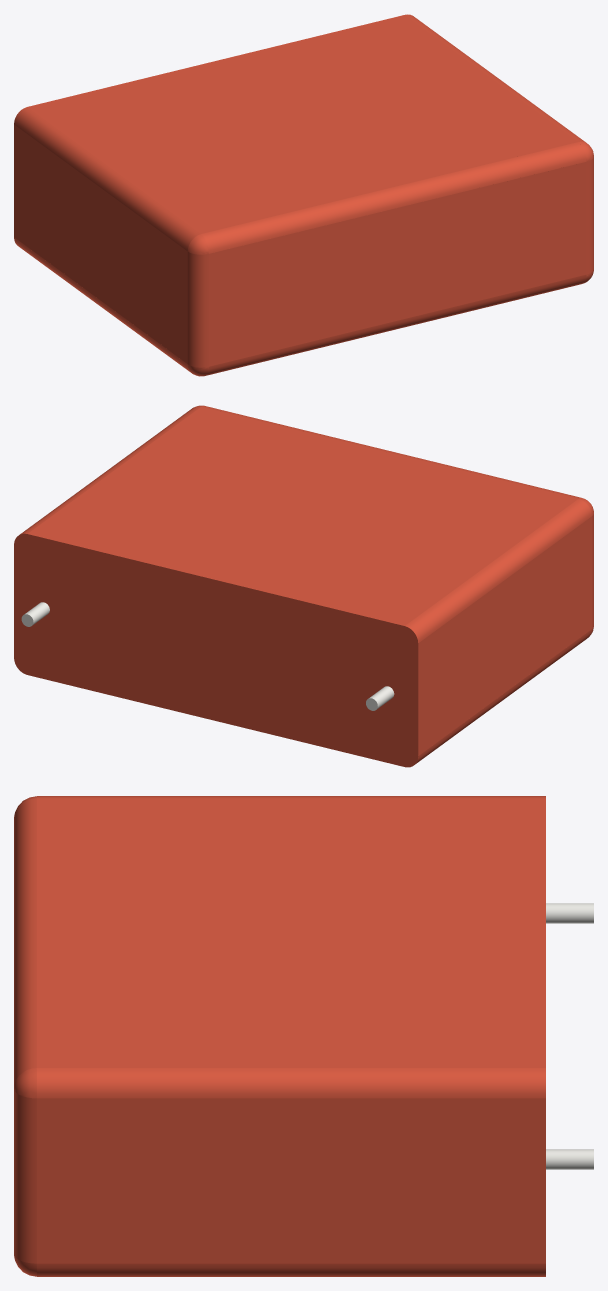
File: C_Rect_L27.0mm_W9.0mm_P23.00mm.glb
The picture shows the model from 3 angles, top to bottom: view 1: azimuth 30°, elevation 25°; view 2: azimuth 150°, elevation 25°; view 3: azimuth 270°, elevation 25°; orthographic projection. The views are drawn at different scales.
Parts seen in each view (by area): view 1: Shape_IndexedFaceSet.009, Shape_IndexedFaceSet.007, Shape_IndexedFaceSet, Shape_IndexedFaceSet.016, Shape_IndexedFaceSet.004, Shape_IndexedFaceSet.015, Shape_IndexedFaceSet.002, Shape_IndexedFaceSet.001, Shape_IndexedFaceSet.011, Shape_IndexedFaceSet.017; view 2: Shape_IndexedFaceSet.009, Shape_IndexedFaceSet.003, Shape_IndexedFaceSet, Shape_IndexedFaceSet.004, Shape_IndexedFaceSet.001, Shape_IndexedFaceSet.011, Shape_IndexedFaceSet.016; view 3: Shape_IndexedFaceSet.009, Shape_IndexedFaceSet.012, Shape_IndexedFaceSet.011, Shape_IndexedFaceSet.010, Shape_IndexedFaceSet.016, Shape_IndexedFaceSet.017, Shape_IndexedFaceSet.004, Shape_IndexedFaceSet.013, Shape_IndexedFaceSet.014.
Boxes of the visible parts, x1=… form: Shape_IndexedFaceSet.009: x1=28, y1=15, x2=577, y2=233; Shape_IndexedFaceSet.007: x1=209, y1=162, x2=586, y2=366; Shape_IndexedFaceSet: x1=14, y1=124, x2=187, y2=363; Shape_IndexedFaceSet.016: x1=201, y1=142, x2=586, y2=253; Shape_IndexedFaceSet.004: x1=14, y1=107, x2=200, y2=250; Shape_IndexedFaceSet.015: x1=205, y1=275, x2=586, y2=375; Shape_IndexedFaceSet.002: x1=187, y1=252, x2=208, y2=367; Shape_IndexedFaceSet.001: x1=14, y1=237, x2=189, y2=371; Shape_IndexedFaceSet.011: x1=405, y1=14, x2=585, y2=142; Shape_IndexedFaceSet.017: x1=586, y1=157, x2=593, y2=274; Shape_IndexedFaceSet.009: x1=28, y1=407, x2=577, y2=625; Shape_IndexedFaceSet.003: x1=14, y1=533, x2=418, y2=767; Shape_IndexedFaceSet: x1=418, y1=516, x2=591, y2=755; Shape_IndexedFaceSet.004: x1=405, y1=499, x2=591, y2=642; Shape_IndexedFaceSet.001: x1=415, y1=629, x2=591, y2=764; Shape_IndexedFaceSet.011: x1=20, y1=406, x2=200, y2=534; Shape_IndexedFaceSet.016: x1=201, y1=406, x2=581, y2=498; Shape_IndexedFaceSet.009: x1=37, y1=798, x2=545, y2=1067; Shape_IndexedFaceSet.012: x1=37, y1=1098, x2=545, y2=1263; Shape_IndexedFaceSet.011: x1=37, y1=1068, x2=545, y2=1098; Shape_IndexedFaceSet.010: x1=37, y1=1263, x2=545, y2=1276; Shape_IndexedFaceSet.016: x1=14, y1=798, x2=36, y2=1086; Shape_IndexedFaceSet.017: x1=14, y1=1089, x2=36, y2=1263; Shape_IndexedFaceSet.004: x1=37, y1=796, x2=545, y2=798; Shape_IndexedFaceSet.013: x1=546, y1=903, x2=593, y2=923; Shape_IndexedFaceSet.014: x1=546, y1=1149, x2=593, y2=1169.
Bounding box in the file's own units: 10.63 × 3.54 × 9.02.
